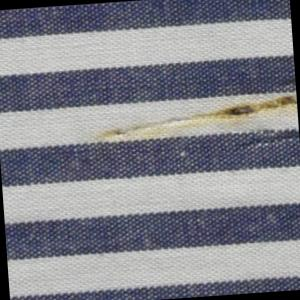Damage: (145, 77, 300, 133)
Oil Stain: (90, 90, 300, 149)
